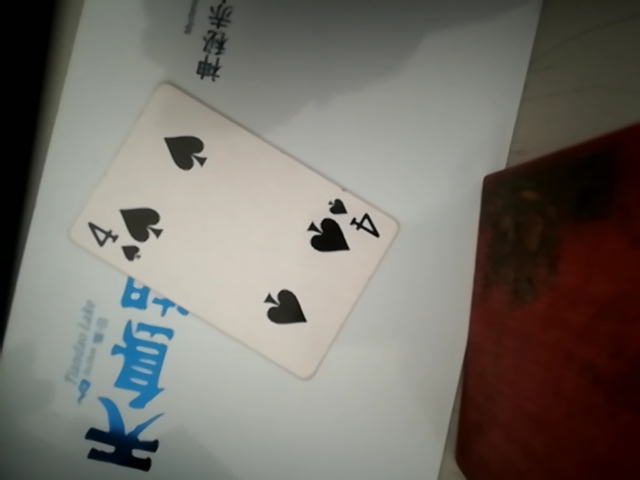ht 4: (66, 89, 401, 373)
